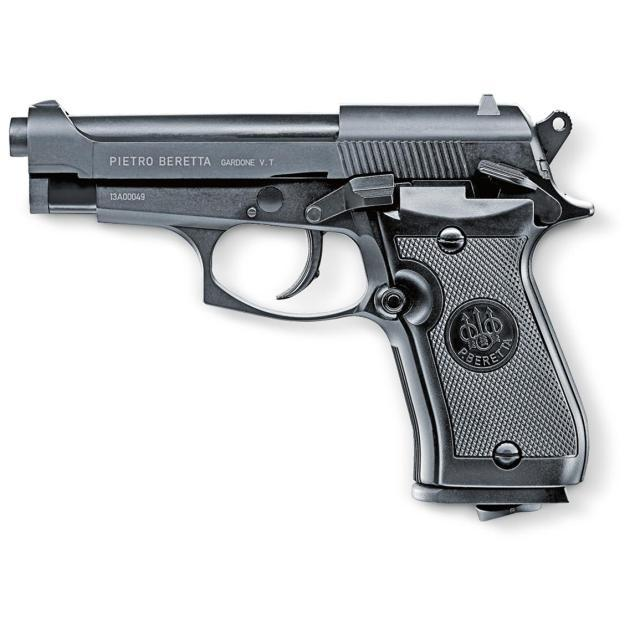Pistol: (4, 91, 622, 538)
